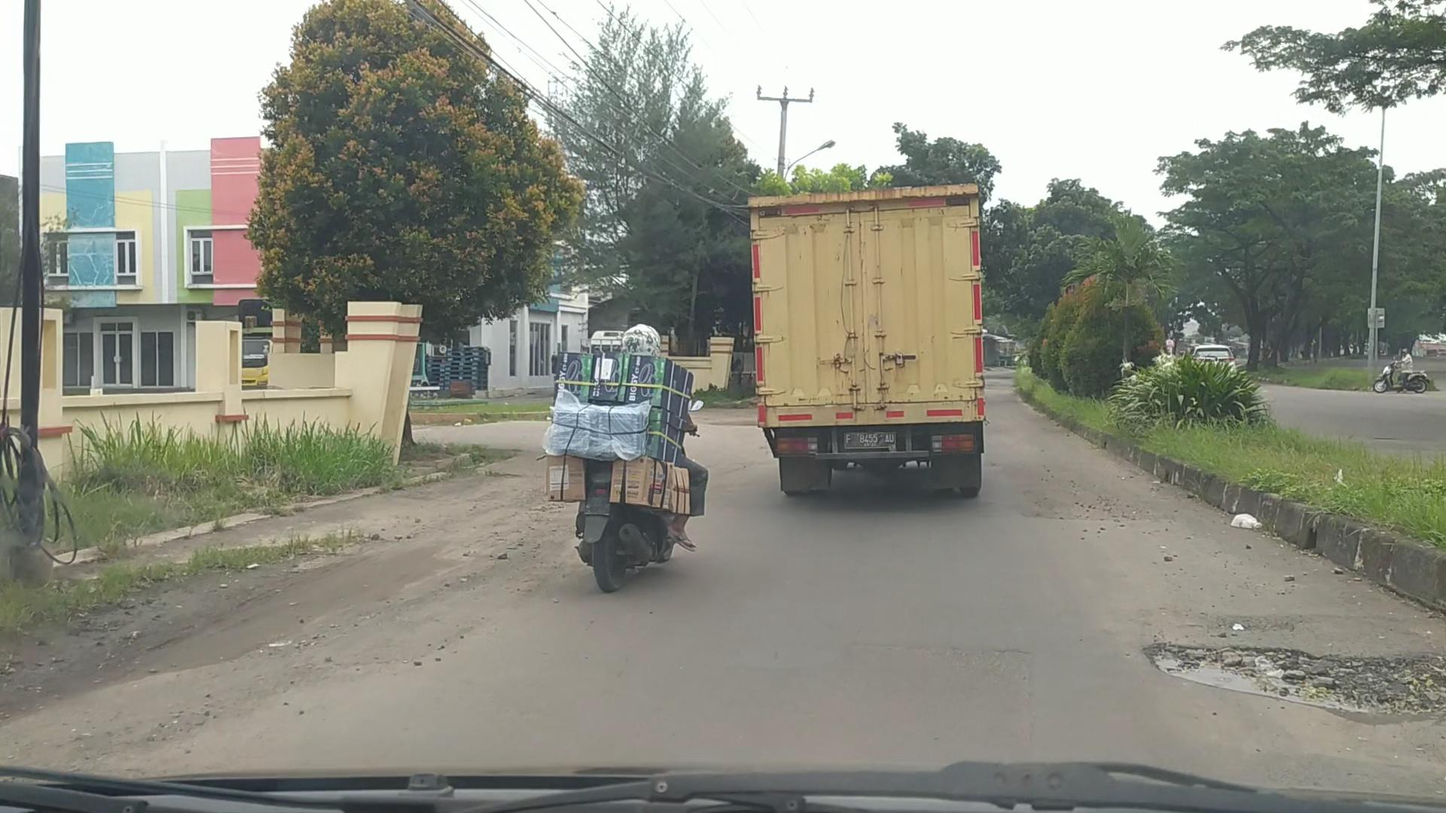pothole: (1145, 642, 1446, 718)
